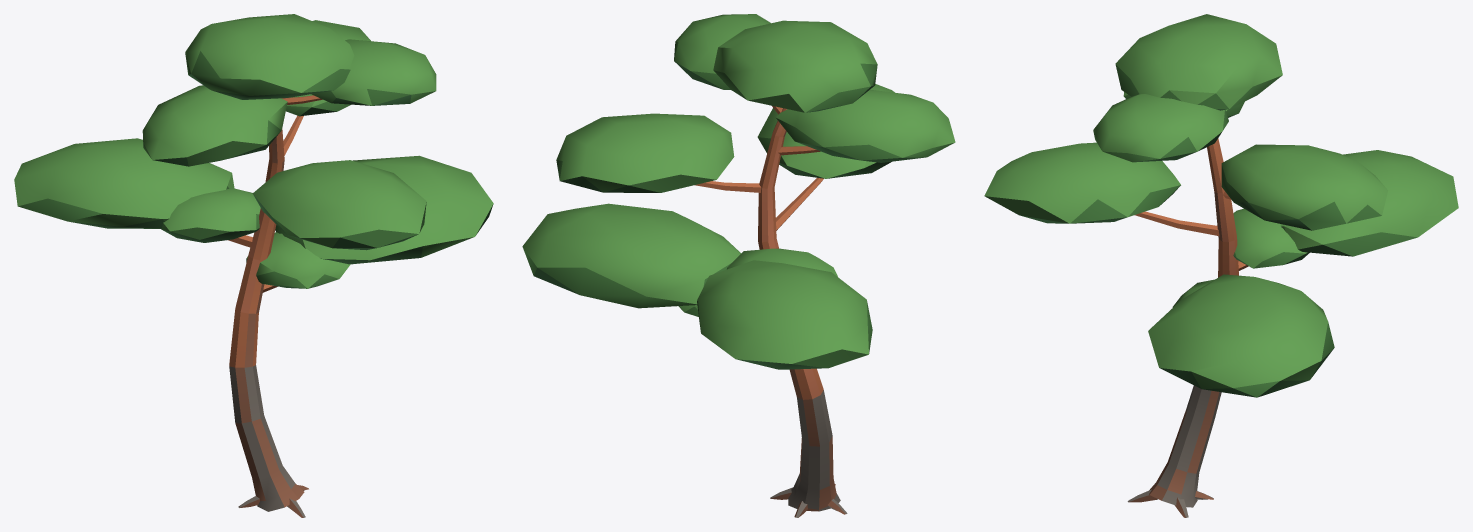
File: SC_Nat_Pine_Korean.gltf
3 views of the same model, side by side, from view 1: azimuth 30°, elevation 25°; view 2: azimuth 150°, elevation 25°; view 3: azimuth 270°, elevation 25° (orthographic). The views are drawn at different scales.
Visible parts, largest first — view 1: SC_Nat_Pine_Korean; view 2: SC_Nat_Pine_Korean; view 3: SC_Nat_Pine_Korean.
Boxes of the visible parts, x1=… form: SC_Nat_Pine_Korean: x1=14, y1=14, x2=493, y2=517; SC_Nat_Pine_Korean: x1=522, y1=14, x2=955, y2=517; SC_Nat_Pine_Korean: x1=984, y1=14, x2=1458, y2=517.
Size of the model in its own units: 6.45 by 7.24 by 6.68.
Materials: 1 (1 with a texture image).
